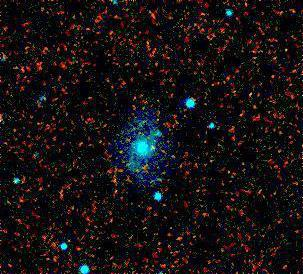star: (138, 134, 168, 164)
